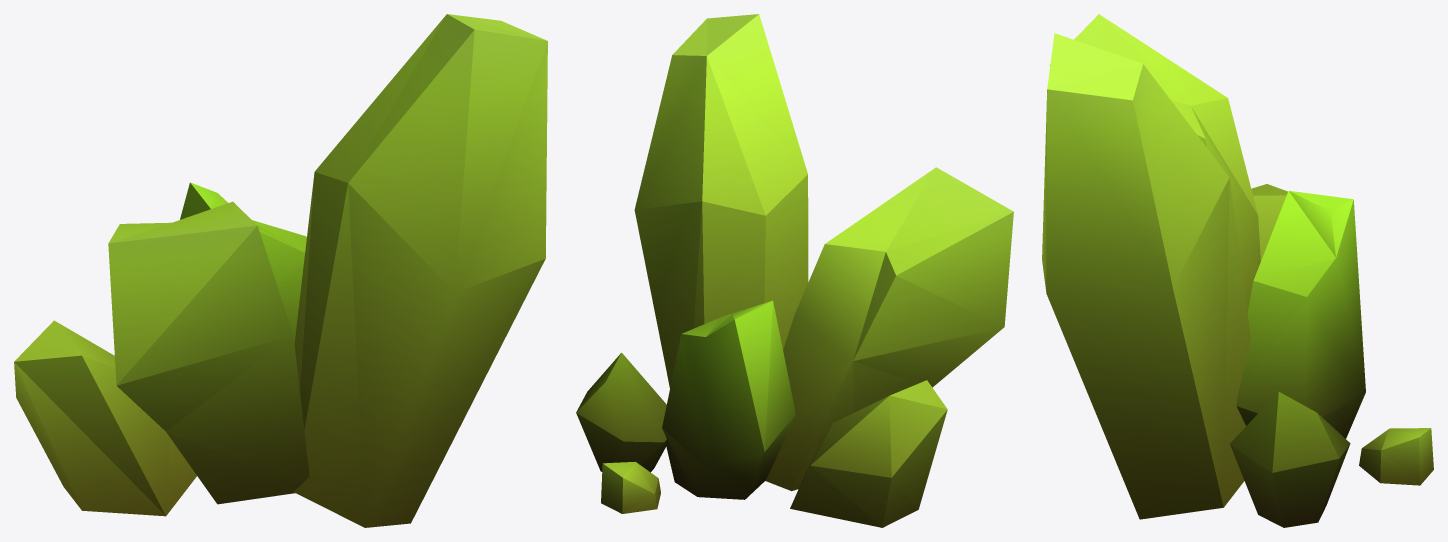
The model's file is ZLP_Crystalk_C_10.FBX.
The picture shows the model from 3 angles, left to right: view 1: azimuth 30°, elevation 25°; view 2: azimuth 150°, elevation 25°; view 3: azimuth 270°, elevation 25°; orthographic projection. The views are drawn at different scales.
Visible parts, largest first — view 1: ZLP_Crystalk_C_10; view 2: ZLP_Crystalk_C_10; view 3: ZLP_Crystalk_C_10.
Part boxes in pixels (bbox=[...]): ZLP_Crystalk_C_10: bbox=[14, 14, 547, 527]; ZLP_Crystalk_C_10: bbox=[576, 14, 1013, 527]; ZLP_Crystalk_C_10: bbox=[1042, 14, 1433, 527].
Size of the model in its own units: 141 by 156 by 112.
